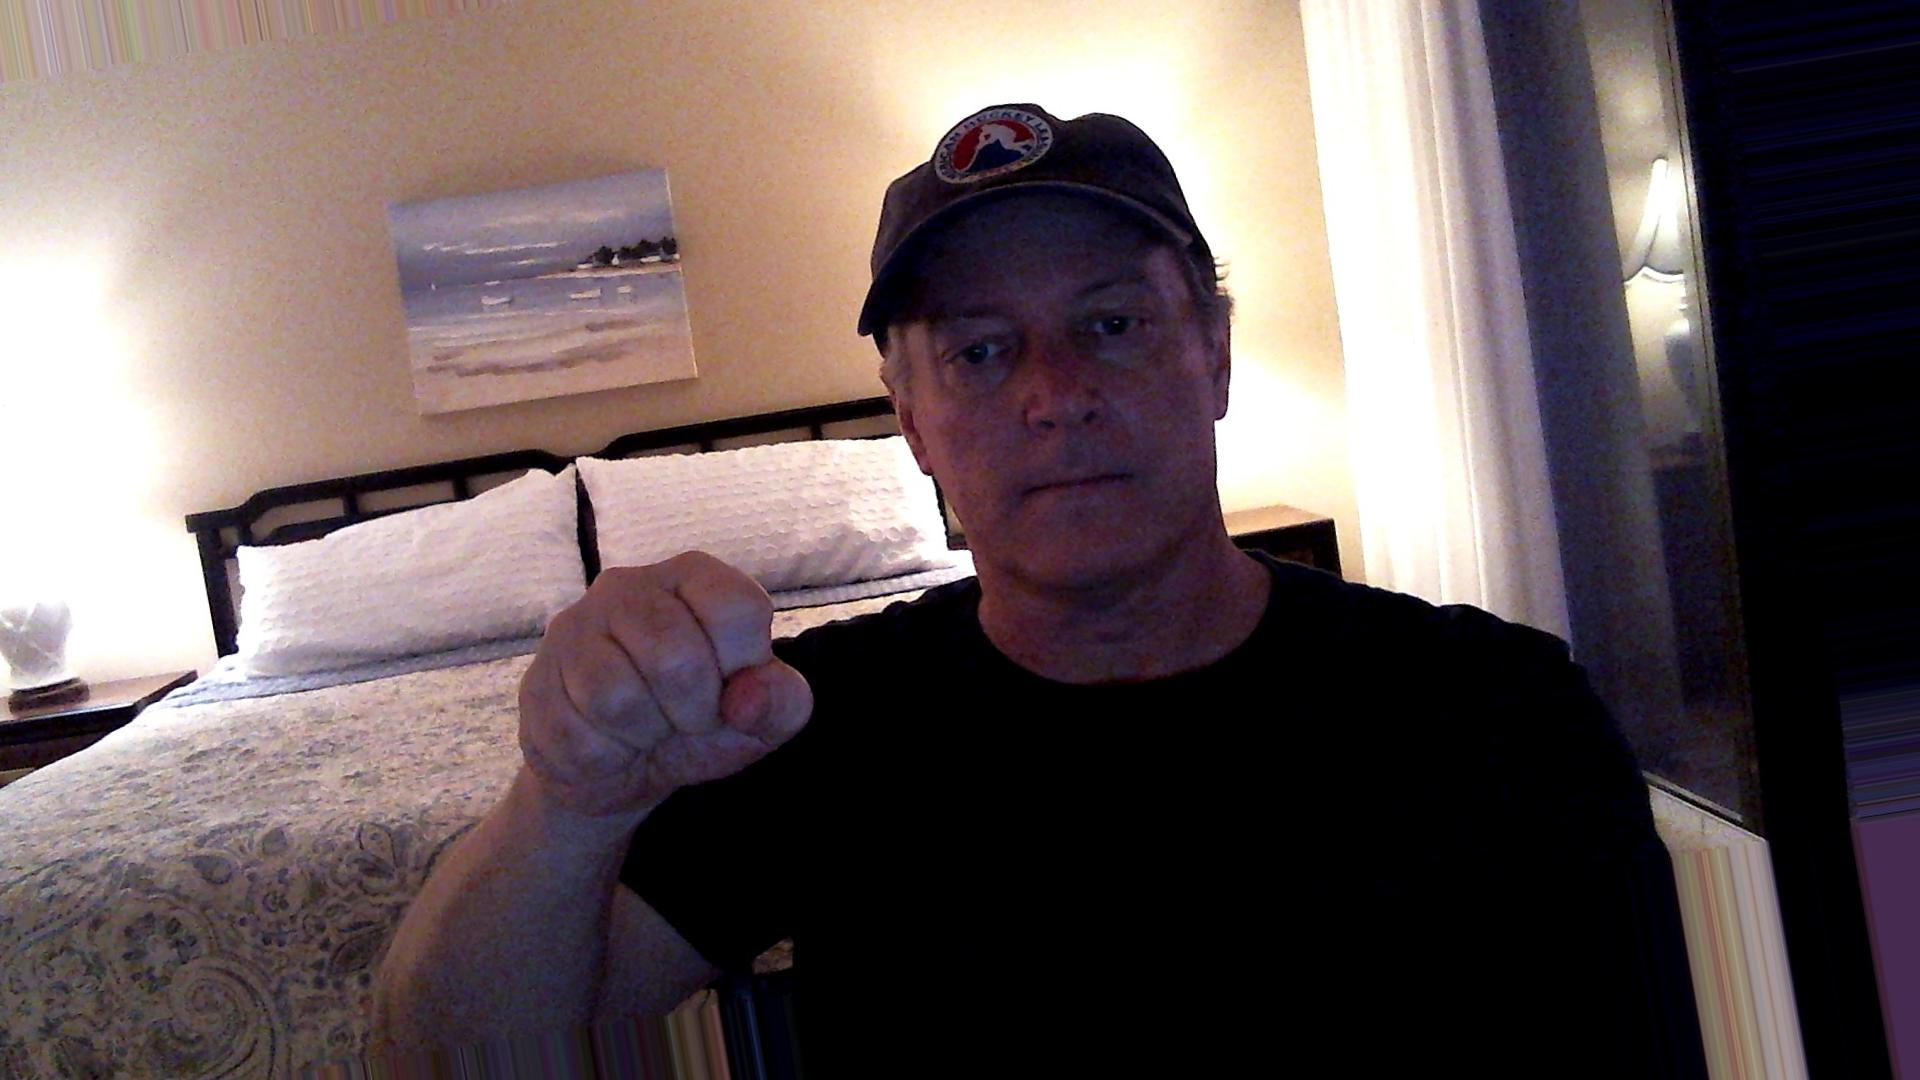Yes: (419, 524, 835, 832)
